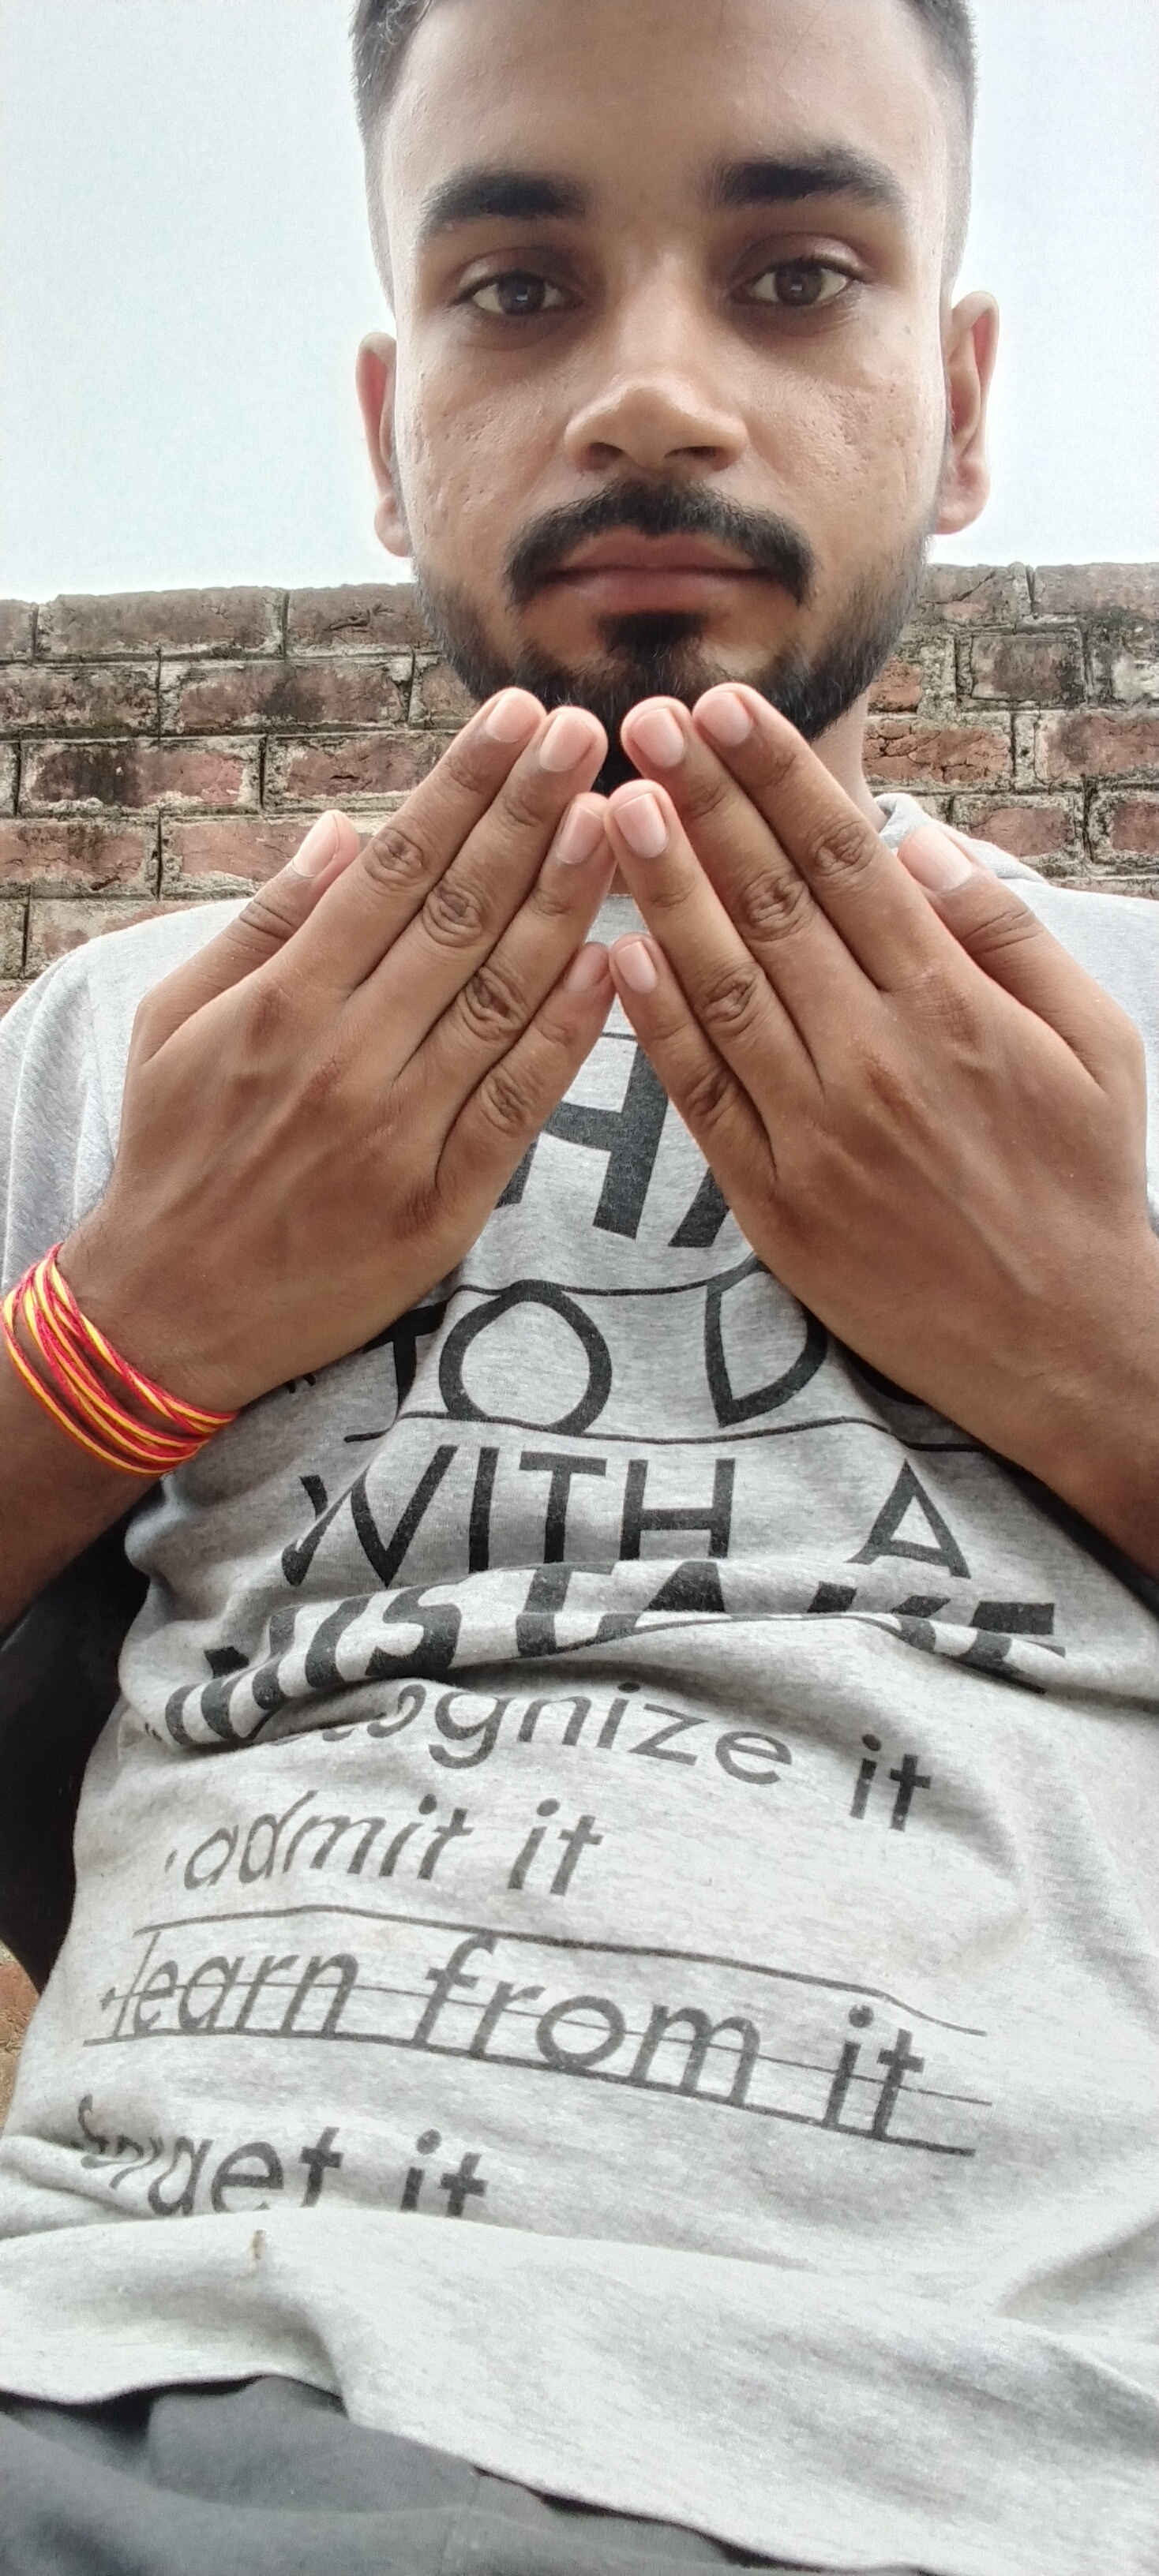Welcome: (100, 678, 1159, 1526)
